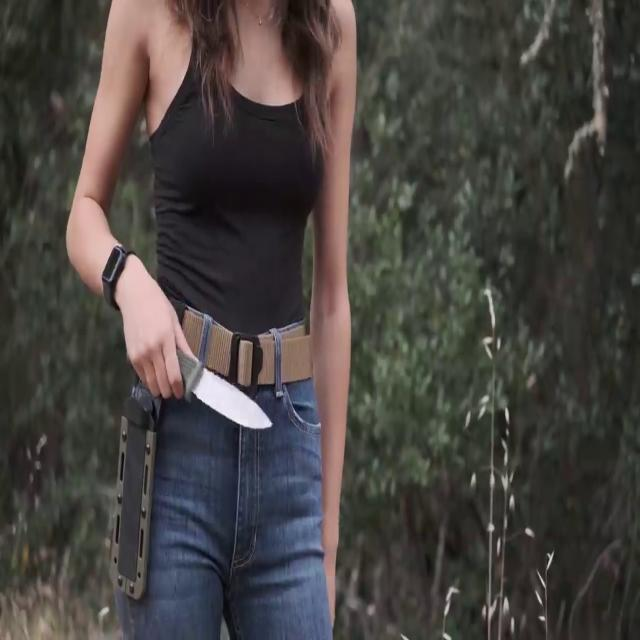Knife: (154, 329, 277, 443)
